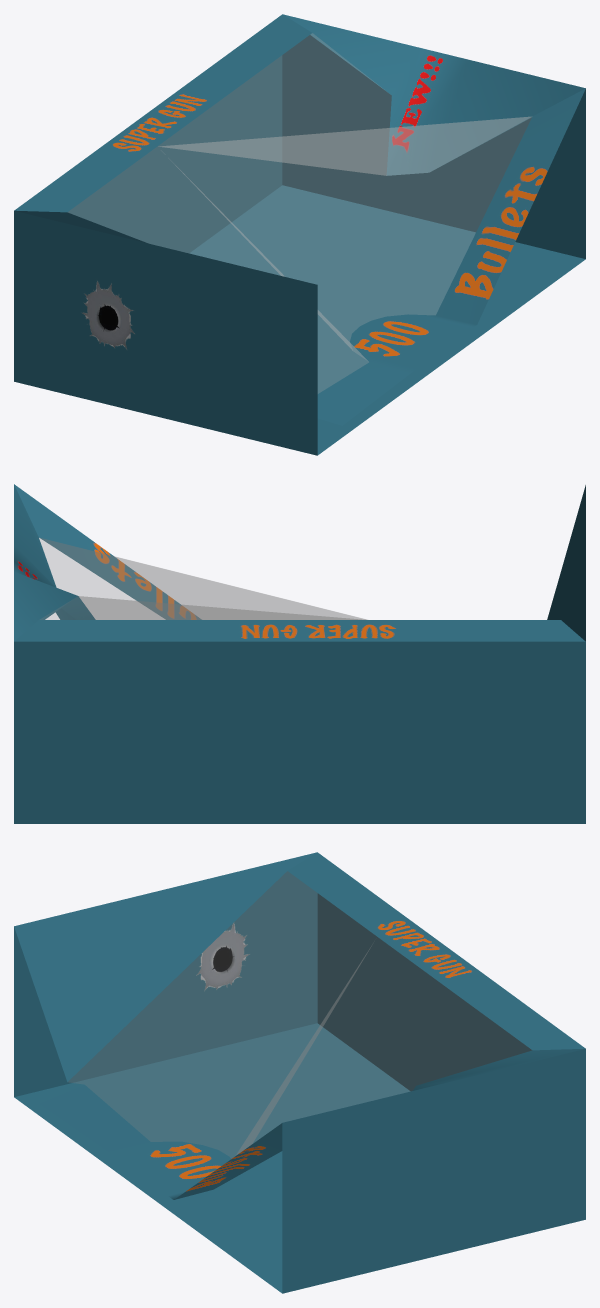
File: for_upload.fbx
3 views of the same model, one above another, from view 1: azimuth 30°, elevation 25°; view 2: azimuth 150°, elevation 25°; view 3: azimuth 270°, elevation 25° (orthographic). The views are drawn at different scales.
Visible parts, largest first — view 1: pCube9; view 2: pCube9; view 3: pCube9.
Part boxes in pixels (<box>): pCube9: <box>14,14,585,455</box>; pCube9: <box>14,484,585,823</box>; pCube9: <box>14,852,585,1293</box>.
Bounding box in the file's own units: 0.2819 × 0.0831 × 0.2518.
3 materials, 2 textured.
